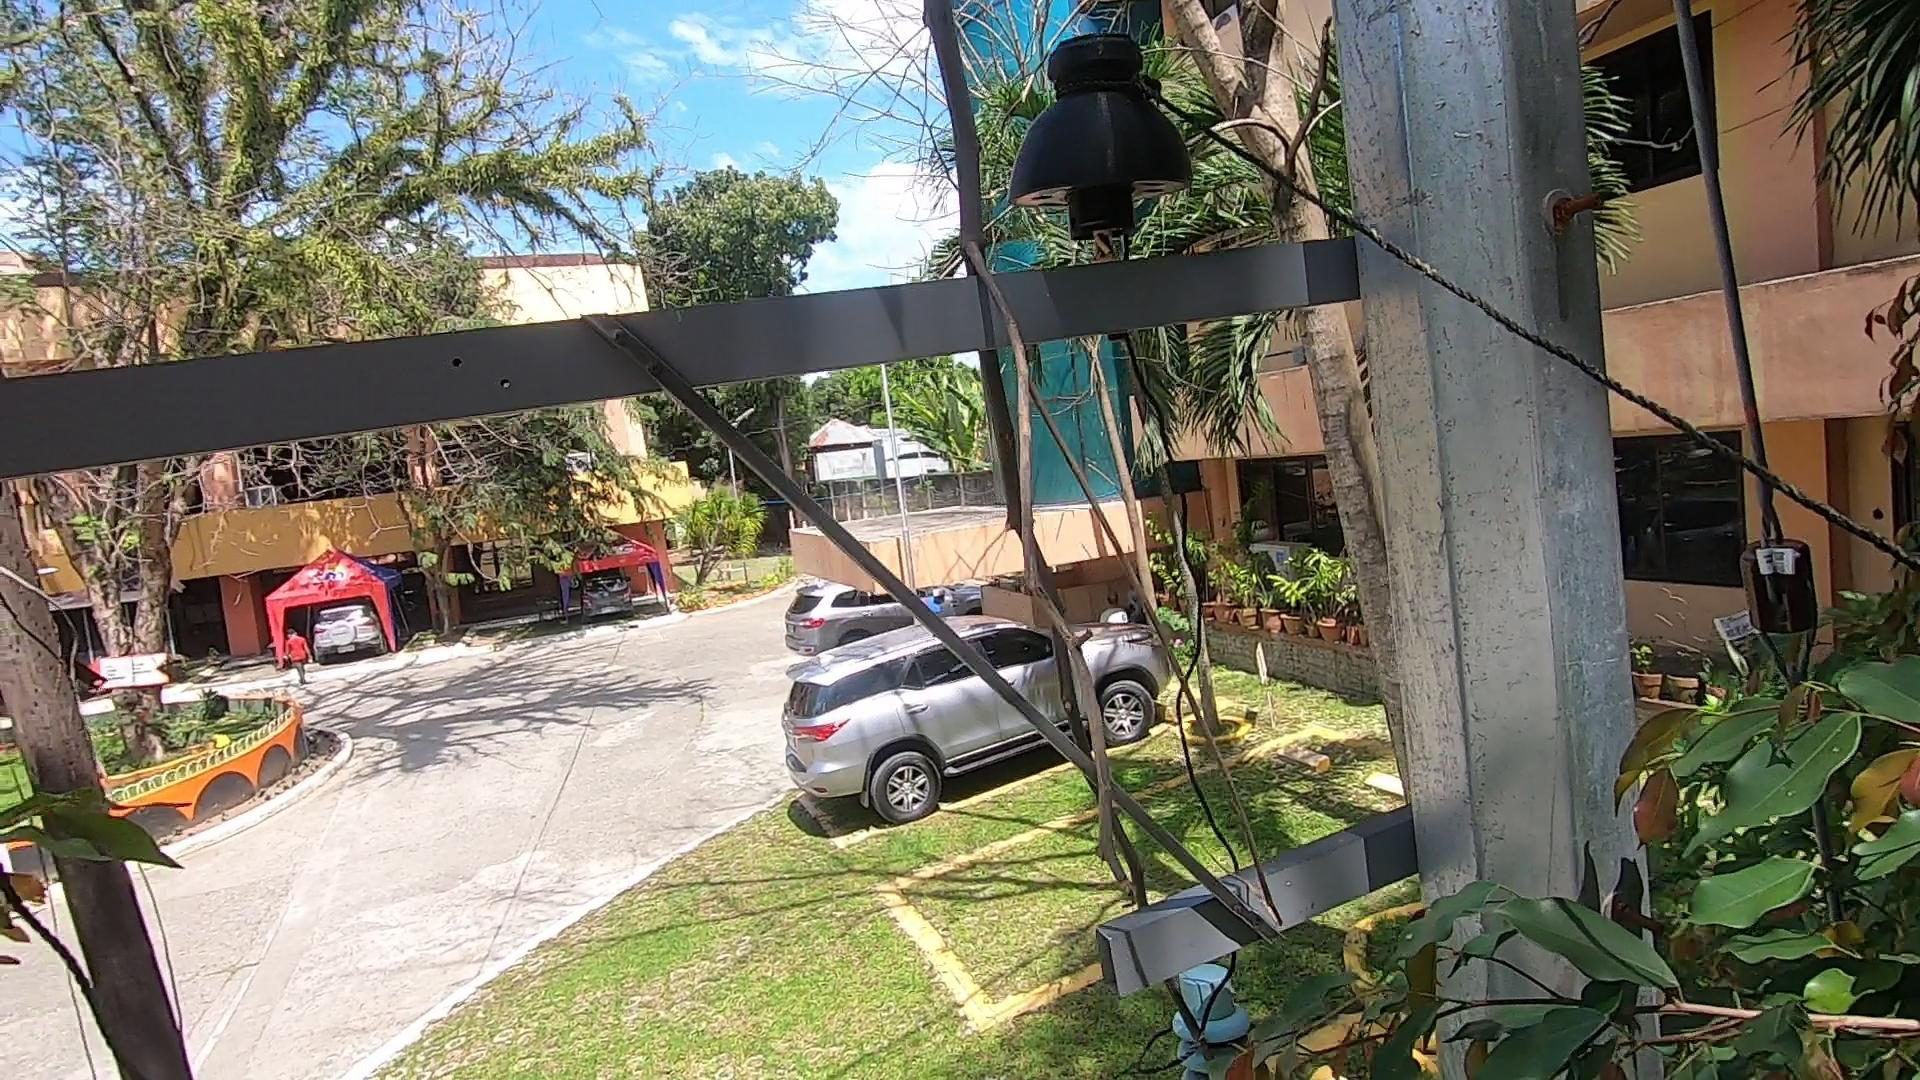branch with leaves: (1329, 878, 1582, 1080)
tree branch: (894, 7, 1236, 973)
